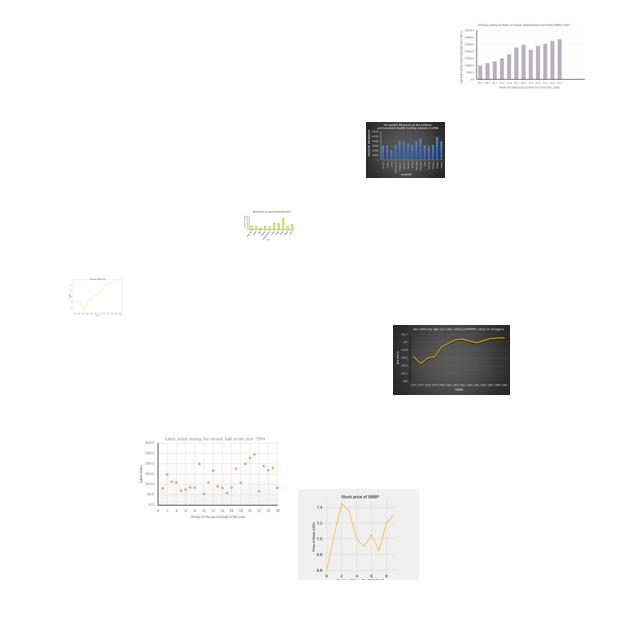Graph: (138, 435, 281, 519), (298, 489, 419, 580), (457, 21, 588, 92), (393, 325, 510, 395), (366, 122, 445, 178), (65, 274, 129, 318), (243, 210, 295, 241)
